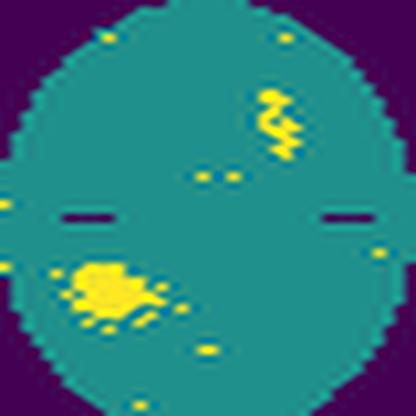Edge-Loc: (62, 258, 166, 331), (257, 85, 304, 162)
